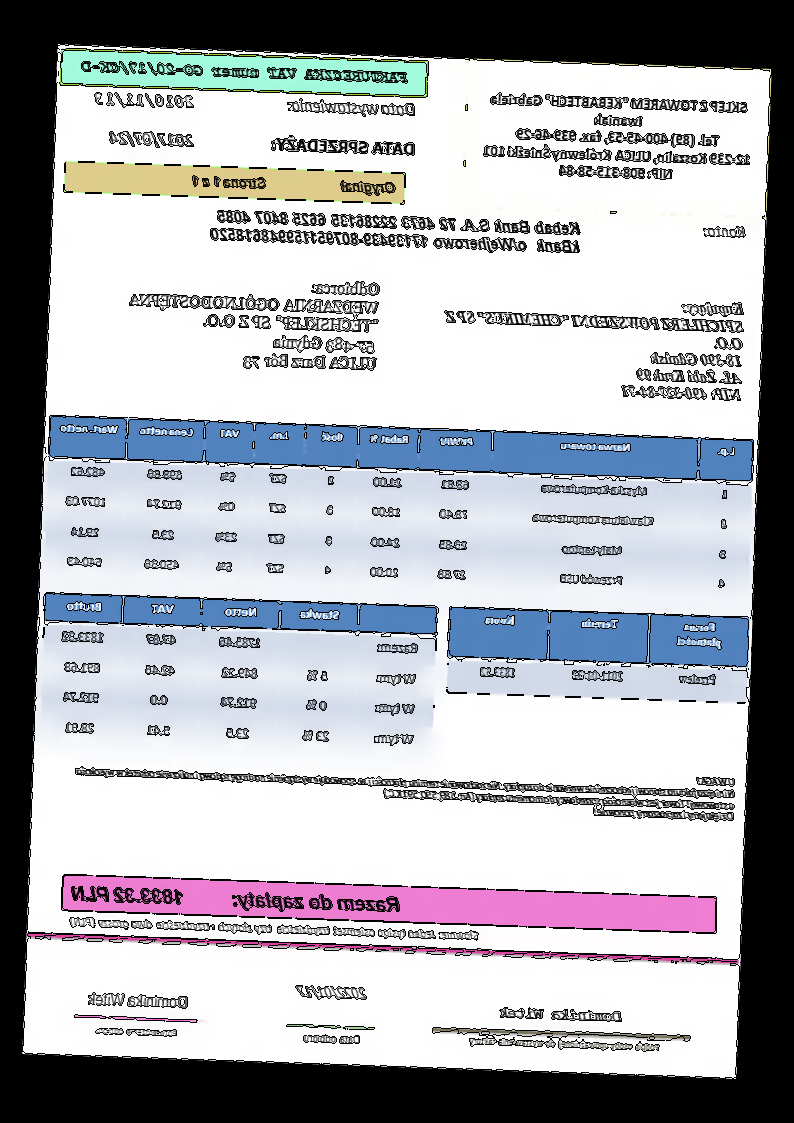Table: (42, 411, 757, 605), (38, 591, 441, 759), (447, 605, 751, 705)
TextBox: (74, 751, 739, 825), (439, 290, 747, 407), (123, 268, 383, 379), (478, 86, 755, 188), (207, 204, 585, 260), (65, 912, 481, 943), (67, 881, 405, 917), (75, 56, 412, 85), (189, 171, 400, 199), (467, 1034, 663, 1055), (269, 132, 418, 158), (286, 93, 418, 120), (495, 1004, 626, 1026), (83, 988, 191, 1011), (93, 88, 195, 110), (109, 127, 197, 151), (290, 979, 369, 1004), (94, 1022, 179, 1042), (698, 219, 750, 244), (302, 1031, 365, 1048)
